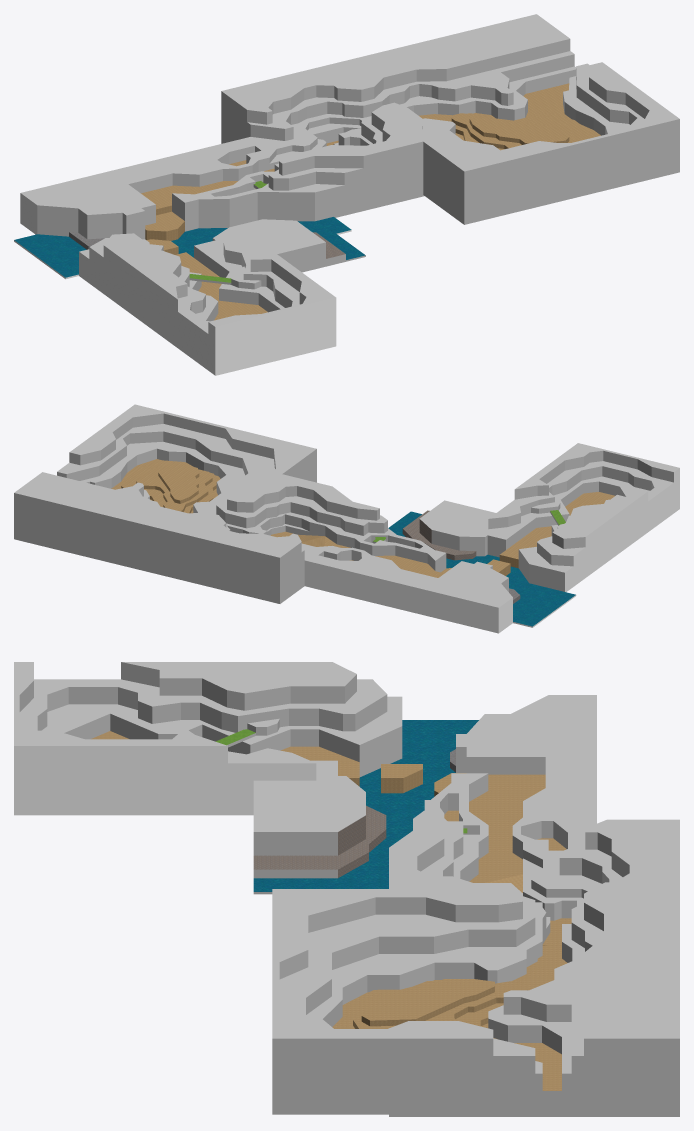
The model's file is Level1.dae.
3 renders of one model, top to bottom at view 1: azimuth 30°, elevation 25°; view 2: azimuth 150°, elevation 25°; view 3: azimuth 270°, elevation 25°, orthographic. The views are drawn at different scales.
Visible parts, largest first — view 1: SketchUp (×10); view 2: SketchUp (×10); view 3: SketchUp (×13).
Part boxes in pixels (bbox=[...]): SketchUp (×10): bbox=[14, 14, 679, 375]; SketchUp (×10): bbox=[14, 404, 679, 633]; SketchUp (×13): bbox=[14, 662, 679, 1116].
Bounding box in the file's own units: 3836 × 2734 × 354.
